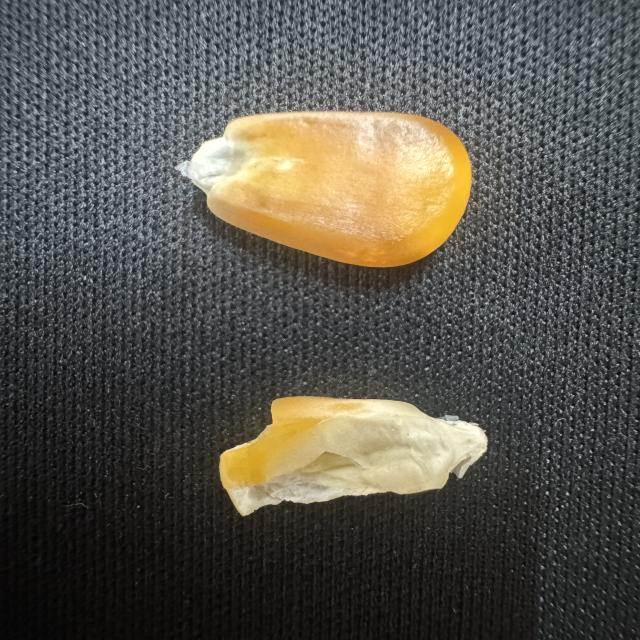Bad-Seed: (212, 389, 492, 530)
Good-Seed: (166, 102, 484, 282)
